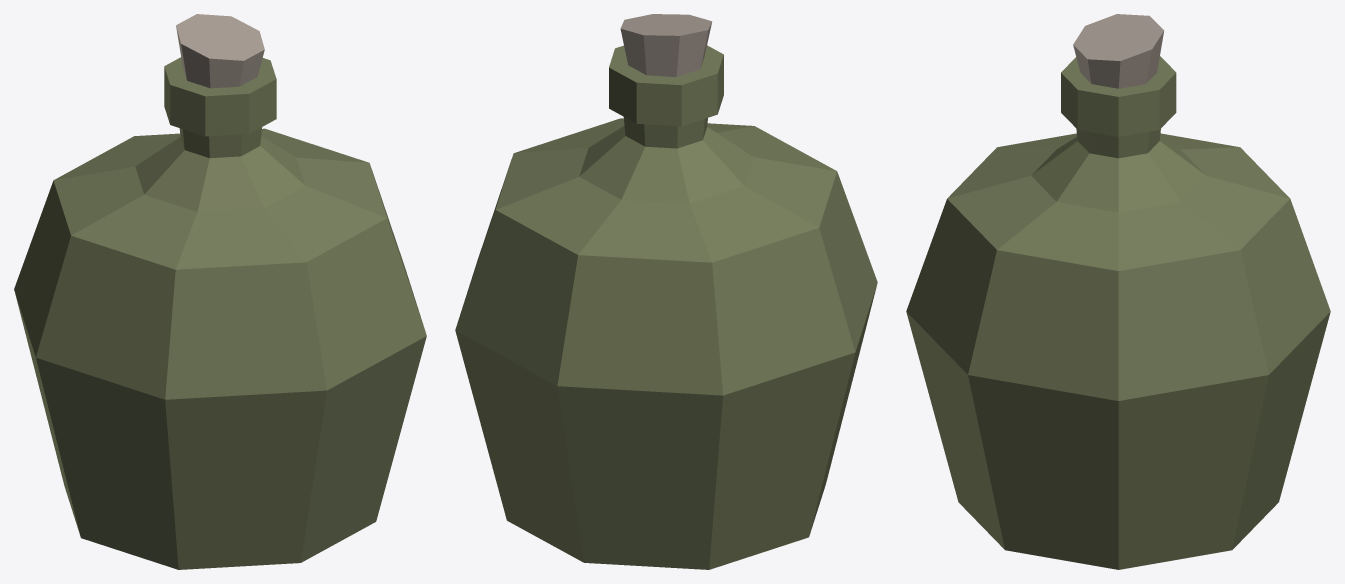
File: Bottle_02.fbx
The picture shows the model from 3 angles, left to right: view 1: azimuth 30°, elevation 25°; view 2: azimuth 150°, elevation 25°; view 3: azimuth 270°, elevation 25°; orthographic projection. The views are drawn at different scales.
Parts seen in each view (by area): view 1: Bottle_02; view 2: Bottle_02; view 3: Bottle_02.
Boxes of the visible parts, <box> form: Bottle_02: <box>14,14,426,569</box>; Bottle_02: <box>455,14,877,569</box>; Bottle_02: <box>906,14,1330,569</box>.
Bounding box in the file's own units: 2.06 × 2.53 × 2.06.
